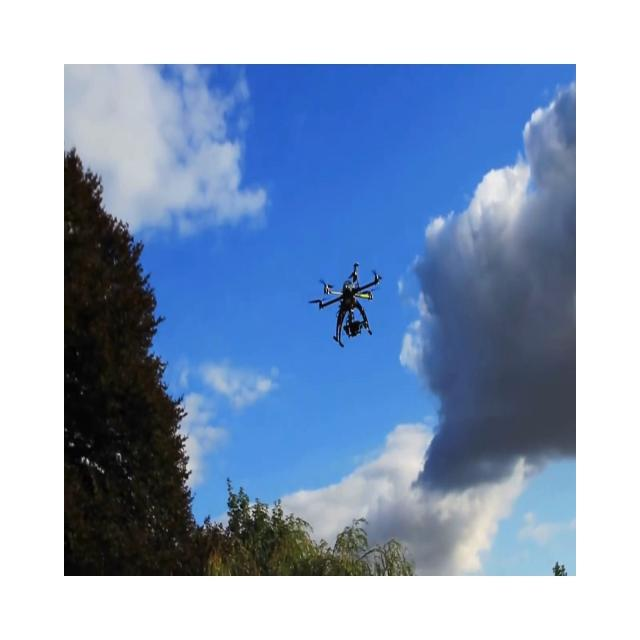drone: (308, 262, 382, 348)
